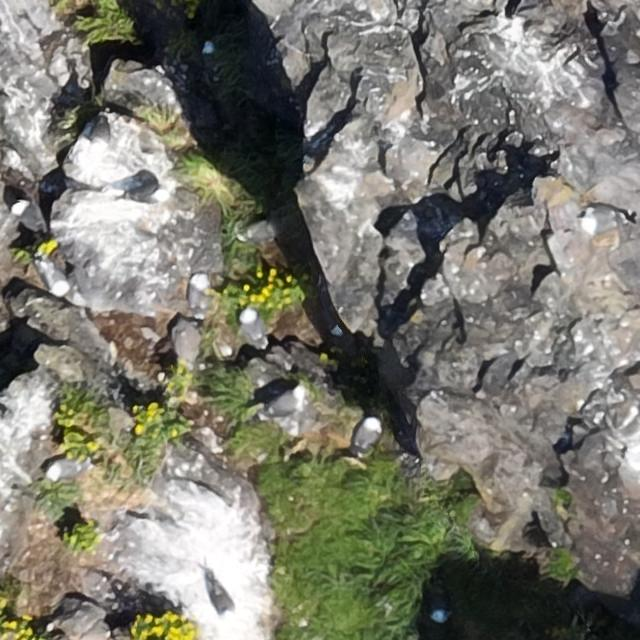umineko: (39, 256, 79, 298), (354, 418, 380, 451), (266, 390, 300, 415), (240, 309, 264, 343), (212, 583, 235, 617), (15, 203, 42, 231), (48, 460, 84, 480), (585, 210, 619, 230), (244, 222, 276, 241), (190, 279, 207, 313), (431, 594, 448, 623), (92, 120, 108, 150)
